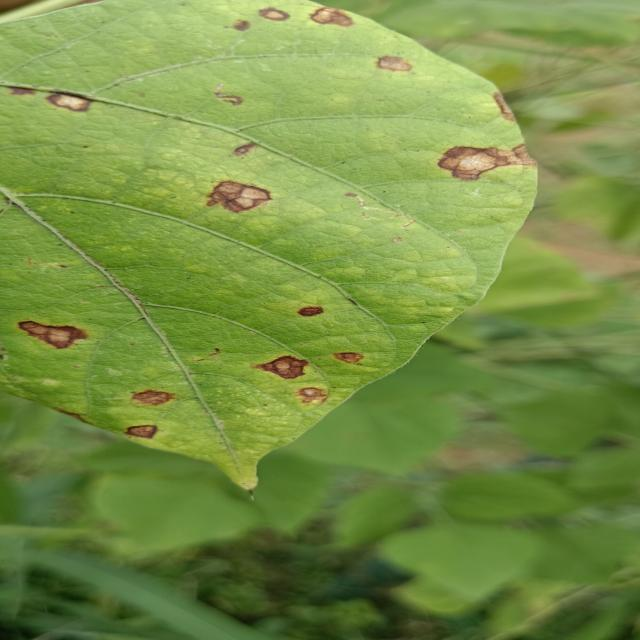Dolicos bean_cercospora leaf spot: (0, 0, 528, 486)
